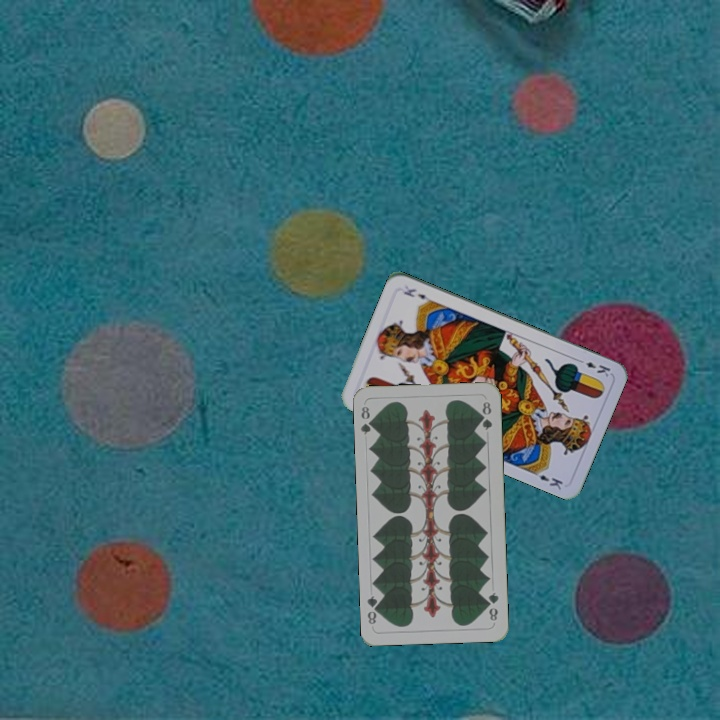EK: (573, 355, 613, 379)
G8: (357, 402, 377, 437), (483, 588, 501, 624)
